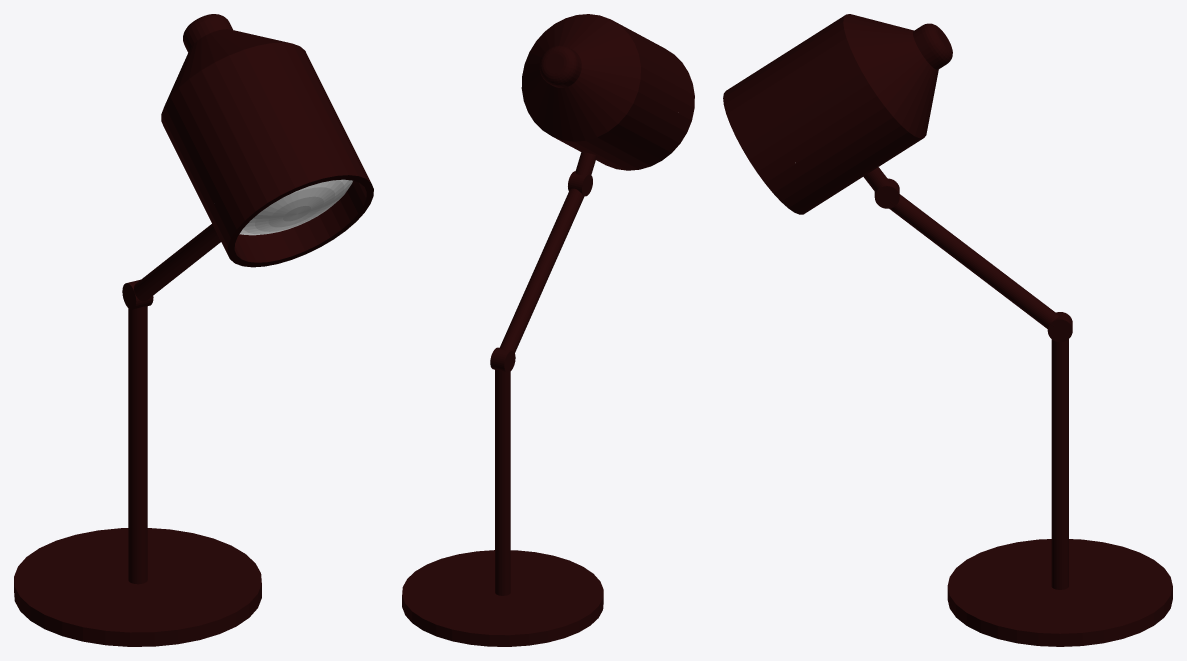
Rendered from TischlampeRed.glb.
3 views of the same model, side by side, from view 1: azimuth 30°, elevation 25°; view 2: azimuth 150°, elevation 25°; view 3: azimuth 270°, elevation 25° (orthographic). The views are drawn at different scales.
Visible parts, largest first — view 1: Lampenschirm, FussUndStab, Gluehbirne, Gelenk1; view 2: Lampenschirm, FussUndStab, Gelenk1, ObererStab, Gelenk2; view 3: Lampenschirm, FussUndStab, Gelenk1.
Boxes of the visible parts, box(x1,y1,x2,y2) form: Lampenschirm: box(161, 14, 373, 267); FussUndStab: box(14, 306, 261, 646); Gluehbirne: box(239, 179, 352, 235); Gelenk1: box(134, 224, 220, 301); Lampenschirm: box(521, 14, 694, 170); FussUndStab: box(402, 370, 603, 646); Gelenk1: box(499, 188, 584, 352); ObererStab: box(490, 347, 515, 372); Gelenk2: box(568, 171, 592, 196); Lampenschirm: box(723, 14, 952, 214); FussUndStab: box(947, 339, 1172, 646); Gelenk1: box(888, 194, 1058, 328).
Bounding box in the file's own units: 3.08 × 8.72 × 6.16.
